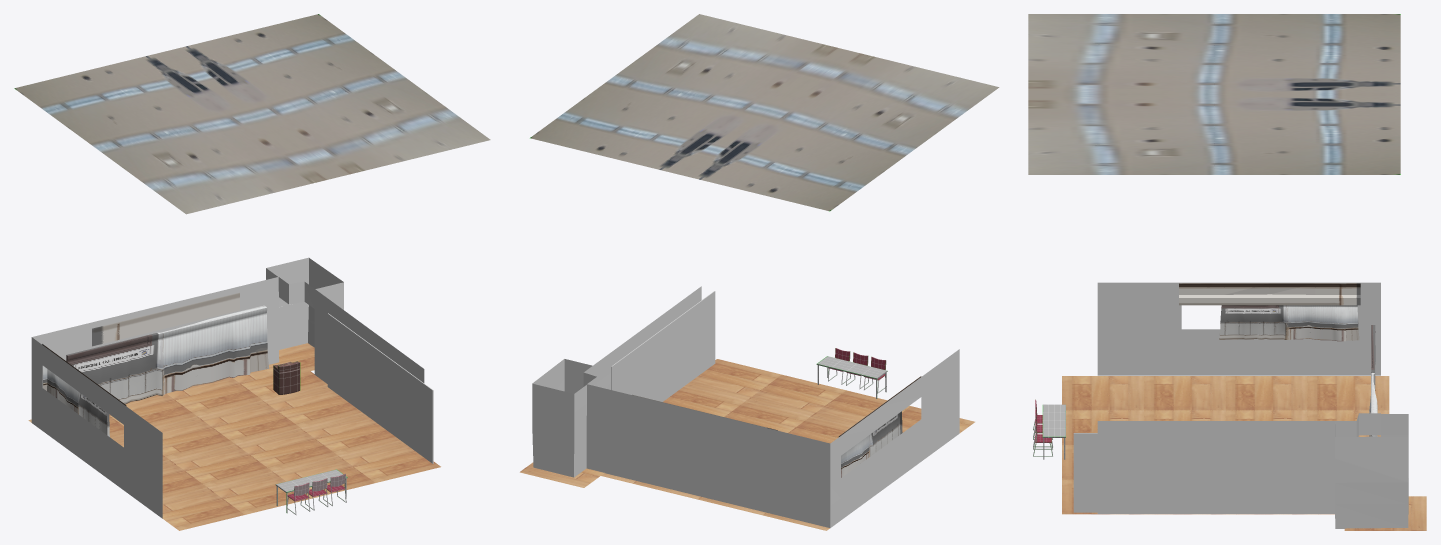
File: 試作品.FBX
3 views of the same model, side by side, from view 1: azimuth 30°, elevation 25°; view 2: azimuth 150°, elevation 25°; view 3: azimuth 270°, elevation 25° (orthographic). The views are drawn at different scales.
Parts seen in each view (by area): view 1: オブジェクト001, Plane004, Box001, Plane005, Box003, Box013; view 2: オブジェクト001, Box001, Plane004, Box003, Plane005, Box013; view 3: オブジェクト001, Box001, Plane004, Plane005, Box003, Box013.
Boxes of the visible parts, x1,y1,x2,y2 form: オブジェクト001: (14,14,490,214); Plane004: (28,343,440,530); Box001: (31,257,424,518); Plane005: (42,292,269,436); Box003: (327,313,433,463); Box013: (273,361,347,515); オブジェクト001: (530,14,999,211); Box001: (532,286,959,528); Plane004: (520,359,974,530); Box003: (611,291,715,401); Plane005: (632,376,921,477); Box013: (816,348,887,398); オブジェクト001: (1028,14,1400,174); Box001: (1097,282,1408,528); Plane004: (1062,376,1426,530); Plane005: (1179,283,1377,436); Box003: (1073,433,1097,512); Box013: (1033,399,1065,459).
Size of the model in its own units: 244 by 253 by 255.
